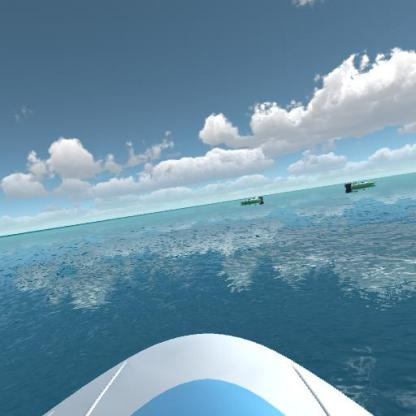usv0: (344, 175, 379, 195), (235, 192, 269, 207)
